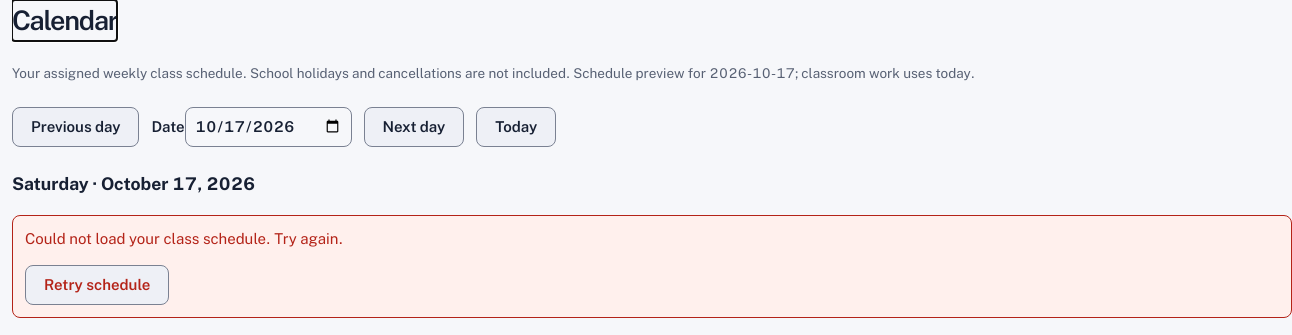
Scenario: Calendar recovery › never keeps prior actor's classes after authorization changes
expect the text "Could not load your class schedule. Try again." is shown: met, box [25,230,343,247]
Click the button "Retry schedule": [97, 285] box [25,265,169,305]
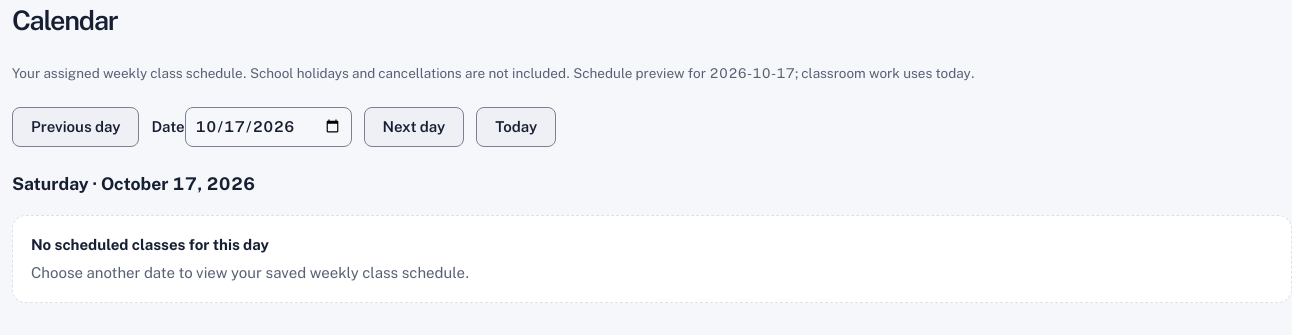
expect the heading "No scheduled classes for this day" is shown: met, box [31,234,269,256]
